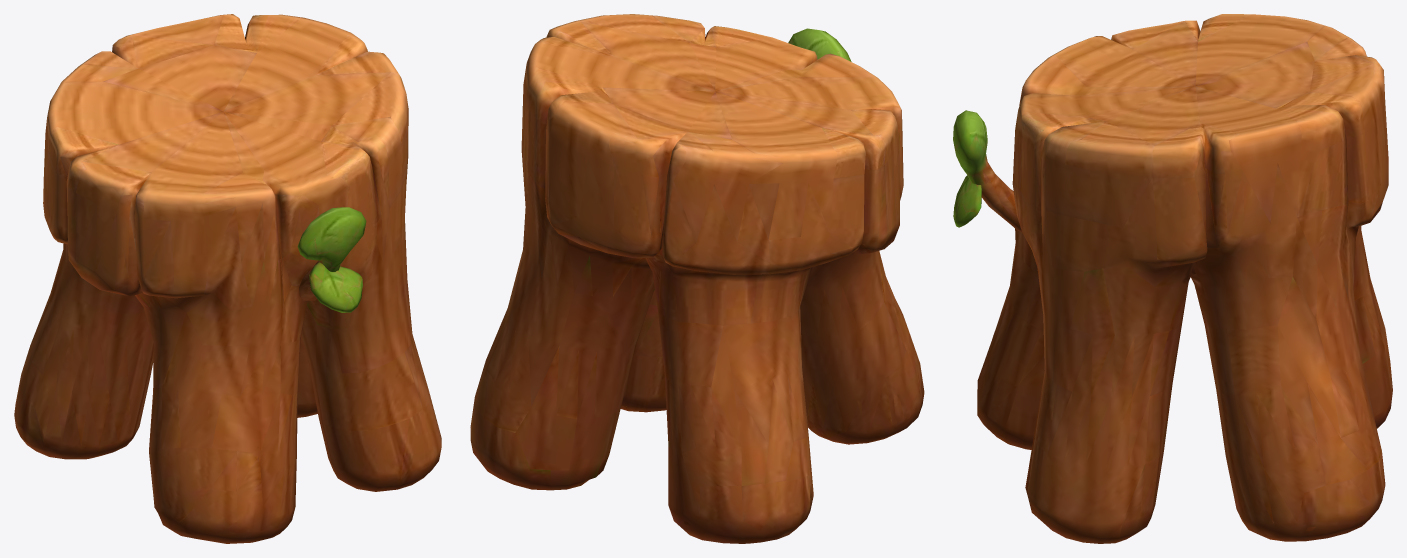
The model's file is stool.glb.
3 renders of one model, left to right at view 1: azimuth 30°, elevation 25°; view 2: azimuth 150°, elevation 25°; view 3: azimuth 270°, elevation 25°, orthographic. The views are drawn at different scales.
Size of the model in its own units: 0.9124 by 1 by 0.9704.
Materials: 1 (1 with a texture image).
